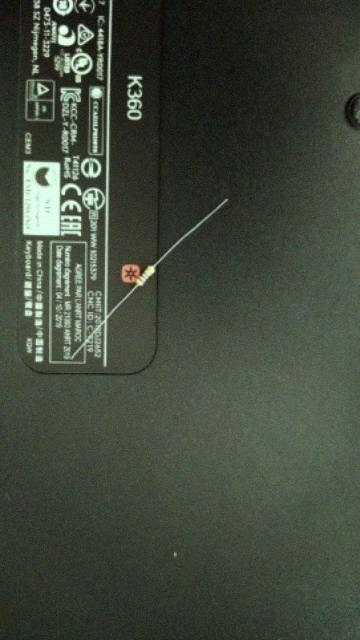resistor: (135, 265, 155, 286)
